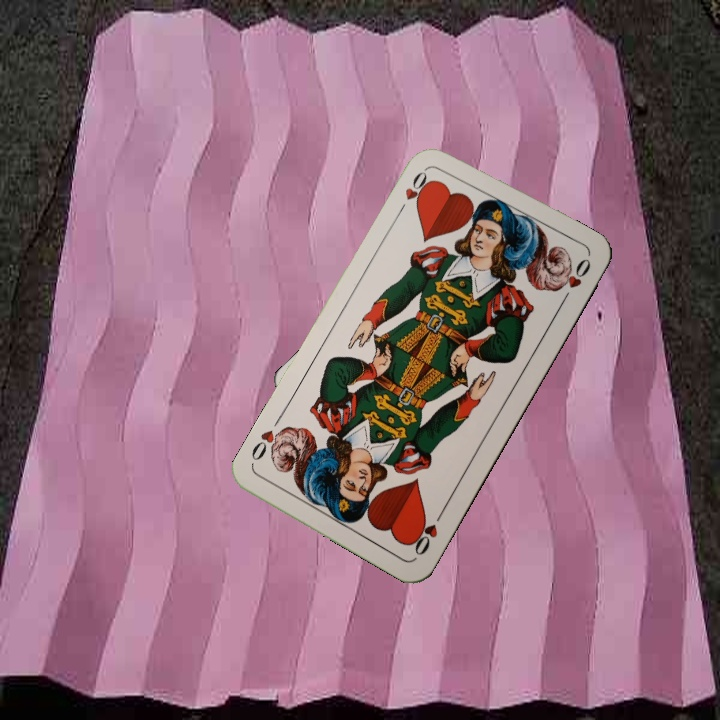HO: (407, 506, 447, 559), (400, 162, 434, 209)
